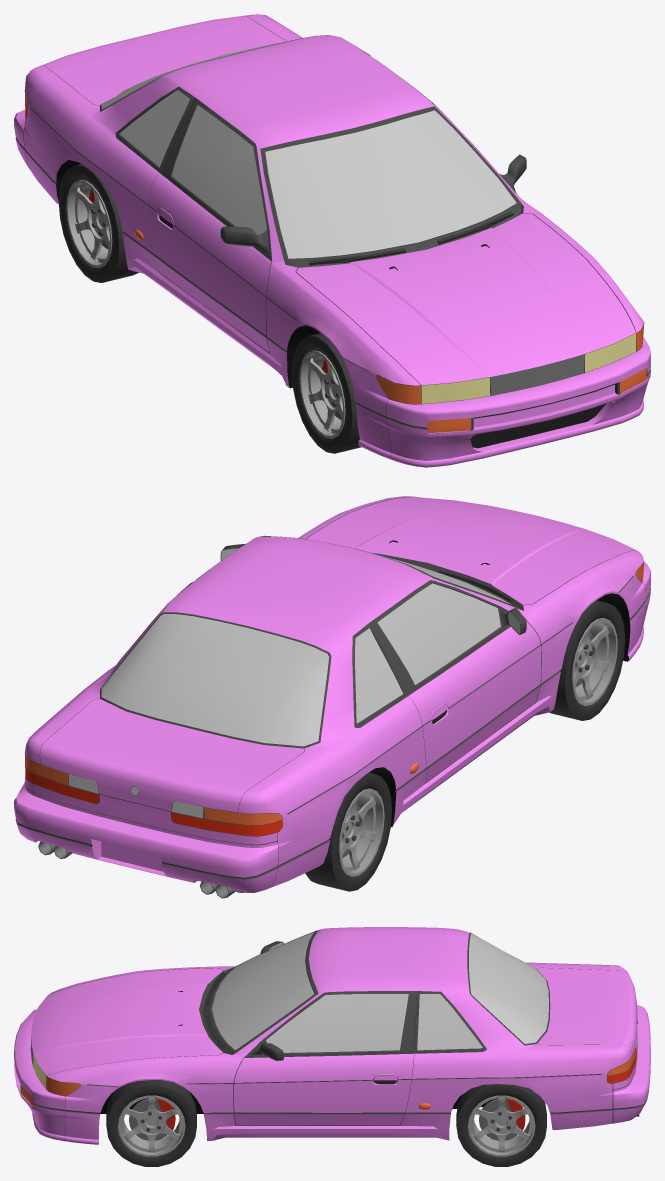
The picture shows the model from 3 angles, top to bottom: view 1: azimuth 30°, elevation 25°; view 2: azimuth 150°, elevation 25°; view 3: azimuth 270°, elevation 25°; orthographic projection. The views are drawn at different scales.
Visible parts, largest first — view 1: silvia S13, front wheels, rear wheels; view 2: silvia S13, front wheels, rear wheels; view 3: silvia S13, front wheels, rear wheels.
Boxes of the visible parts, bbox=[...] form: silvia S13: bbox=[14, 14, 650, 467]; front wheels: bbox=[292, 333, 361, 453]; rear wheels: bbox=[58, 164, 138, 282]; silvia S13: bbox=[14, 496, 650, 898]; front wheels: bbox=[549, 600, 625, 720]; rear wheels: bbox=[305, 772, 391, 891]; silvia S13: bbox=[14, 927, 650, 1144]; front wheels: bbox=[106, 1080, 196, 1166]; rear wheels: bbox=[456, 1084, 546, 1166].
Size of the model in its own units: 1.26 by 0.8595 by 3.05.
Materials: 1 (1 with a texture image).
